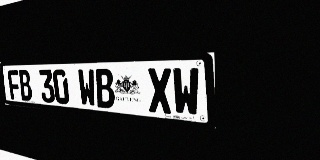0: (52, 69, 70, 105)
3: (39, 69, 55, 103)
B: (94, 69, 115, 109), (18, 70, 33, 101)
F: (7, 70, 21, 100)
W: (172, 67, 200, 117), (77, 69, 97, 107)
X: (147, 68, 173, 114)
